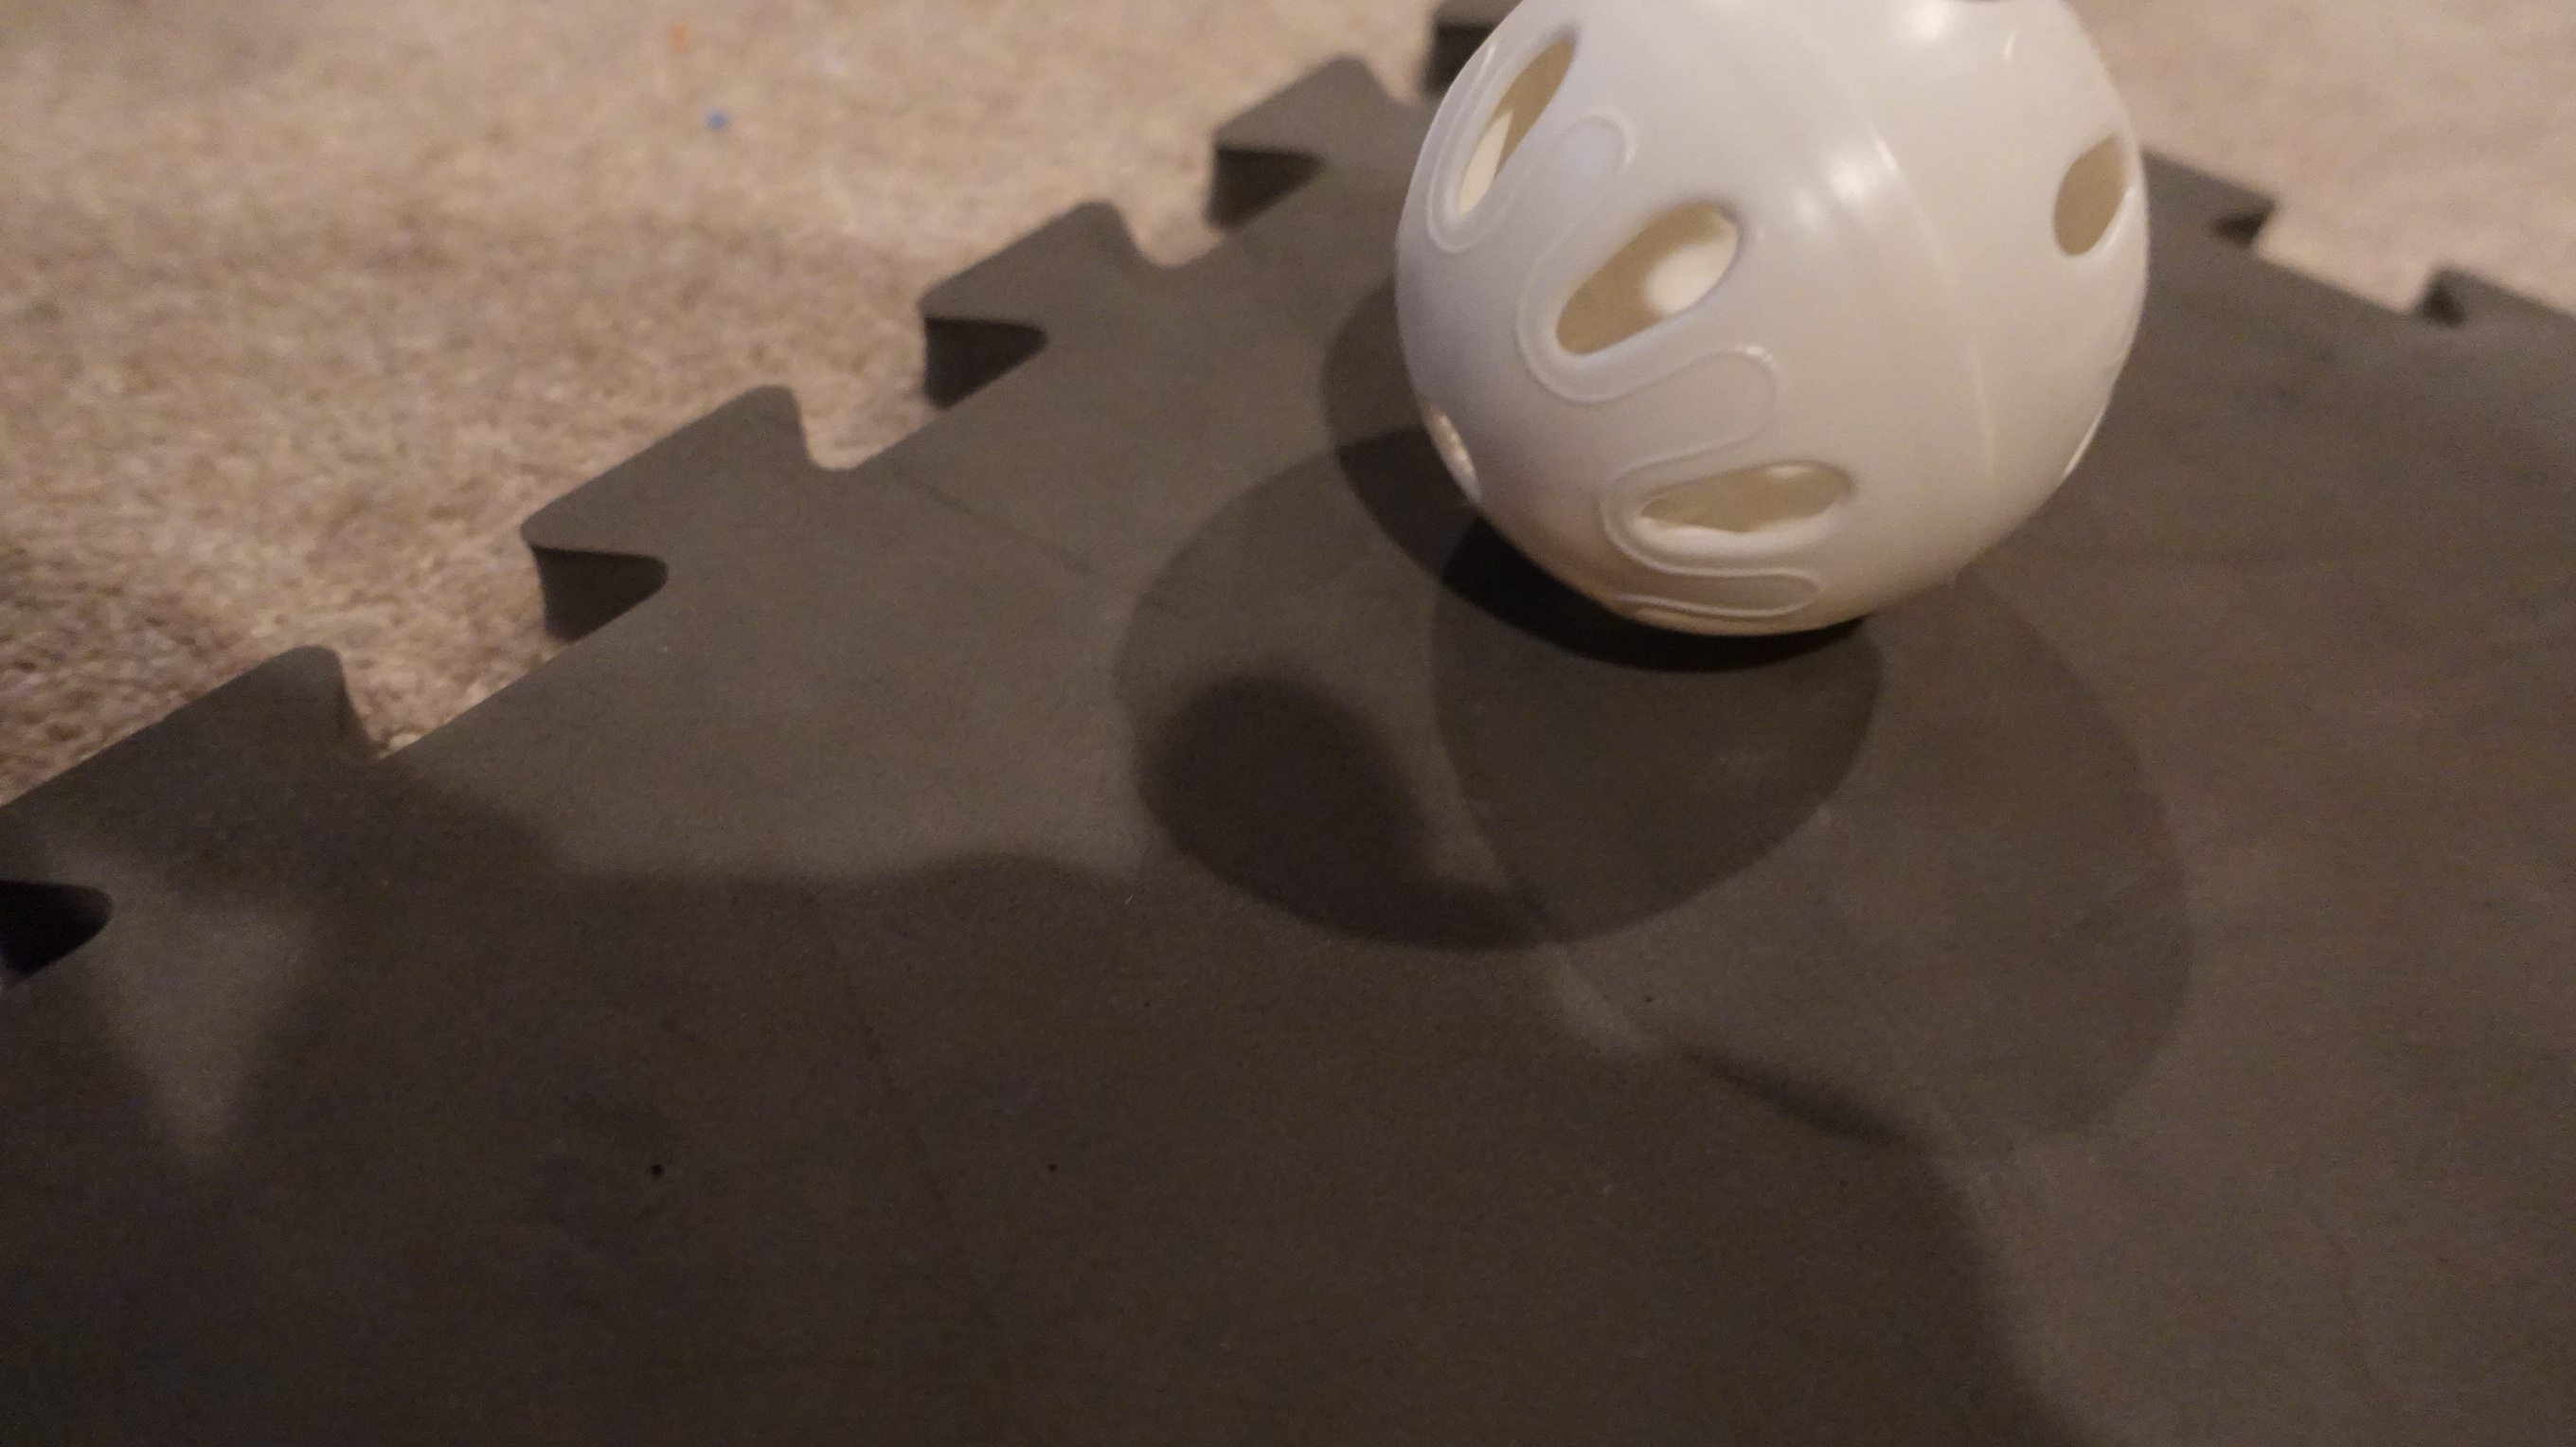silver: (1391, 2, 2151, 665)
